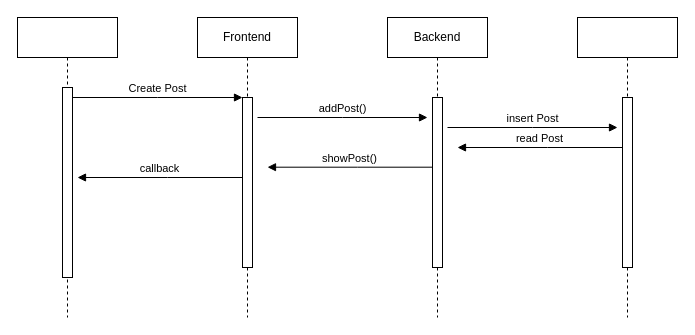
This 695x335 diagram has some shape labels left out. The shapes that lost their labels are listed below. From the top down, each one's box as (x1, y1, x2, y2) in pixels, then its label:
(16, 16, 118, 318): Customer
(576, 16, 678, 318): Database
